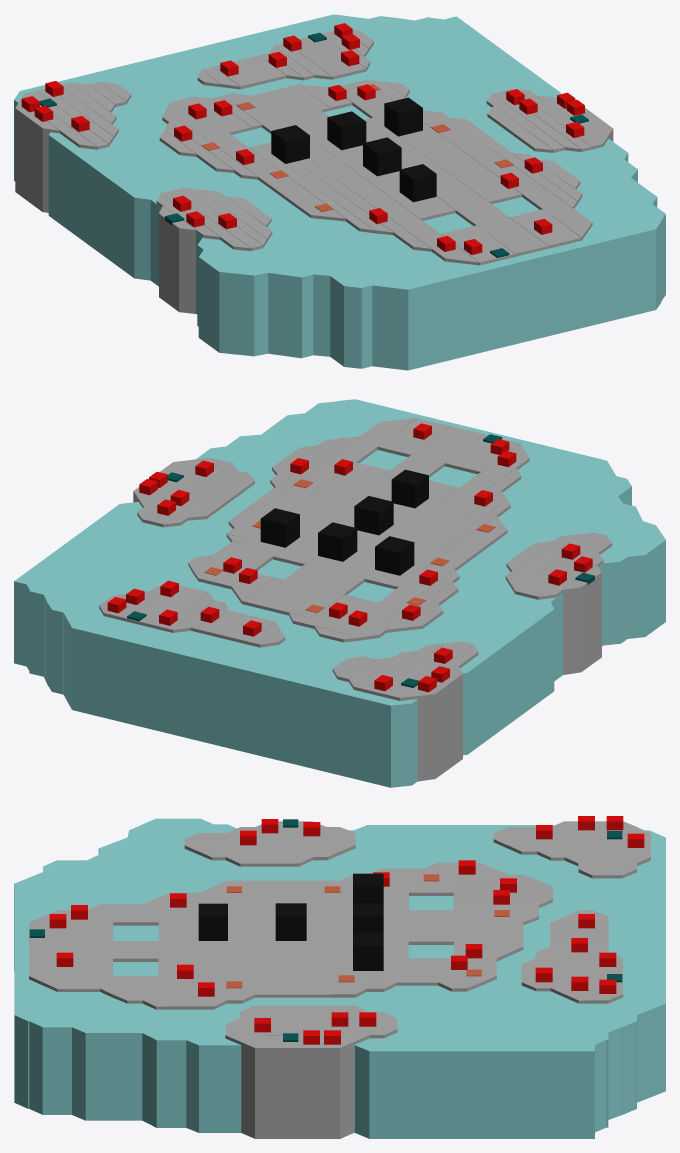
Rendered from Lv2-Room4.fbx.
The picture shows the model from 3 angles, top to bottom: view 1: azimuth 30°, elevation 25°; view 2: azimuth 150°, elevation 25°; view 3: azimuth 270°, elevation 25°; orthographic projection. The views are drawn at different scales.
Visible parts, largest first — view 1: Ice54, Ice69, Ice62, Ice55, Ice64, Ice67, Floor96, Floor105, Floor108, Floor98, Ice68, Ice71 (+49 smaller); view 2: Ice54, Ice69, Ice62, Ice55, Ice68, Floor105, Floor96, Floor144, Floor108, Floor98, Ice67, Ice56 (+45 smaller); view 3: Ice54, Ice61, Floor123, Ice58, Ice55, Ice57, Ice60, Ice59, Floor96, Floor105, Floor98, Ice62 (+53 smaller).
Part boxes in pixels (x1,y1,x2,y2): Ice54: (108, 14, 634, 370); Ice69: (48, 132, 150, 280); Ice62: (87, 69, 408, 370); Ice55: (334, 14, 656, 315); Ice64: (64, 77, 361, 368); Ice67: (20, 86, 301, 358); Floor96: (364, 117, 548, 256); Floor105: (252, 87, 455, 220); Floor108: (230, 96, 479, 265); Floor98: (341, 80, 521, 204); Ice68: (14, 91, 268, 356); Ice71: (198, 250, 237, 354); Ice54: (72, 404, 606, 765); Ice69: (460, 602, 554, 755); Ice62: (301, 461, 616, 770); Ice55: (63, 399, 376, 709); Ice68: (391, 521, 655, 787); Floor105: (252, 480, 459, 615); Floor96: (273, 426, 483, 566); Floor144: (417, 666, 462, 781); Floor108: (289, 443, 529, 617); Floor98: (198, 462, 389, 589); Ice67: (370, 506, 642, 787); Ice56: (51, 399, 354, 694); Ice54: (14, 883, 665, 1003); Ice61: (355, 1044, 594, 1138); Floor123: (225, 1035, 369, 1138); Ice58: (72, 1027, 622, 1120); Ice55: (14, 1003, 665, 1102); Ice57: (29, 1021, 636, 1114); Ice60: (184, 1039, 606, 1132); Ice59: (141, 1032, 608, 1127); Floor96: (29, 941, 408, 961); Floor105: (158, 922, 523, 944); Floor98: (158, 958, 496, 979); Ice62: (14, 871, 665, 971).
Bounding box in the file's own units: 28.19 × 6.54 × 33.38.
